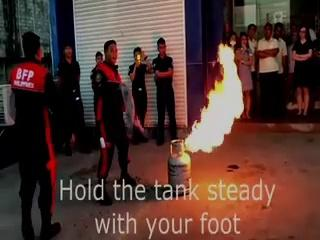Fire: (178, 52, 240, 155)
